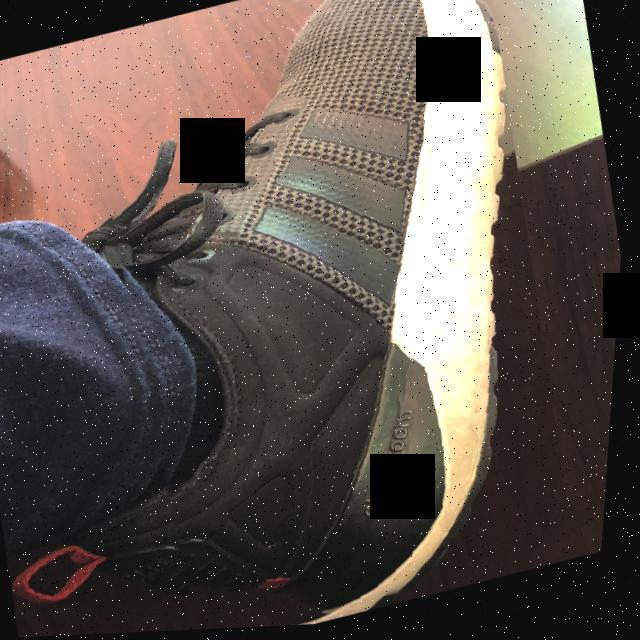shoe: (48, 0, 613, 637)
